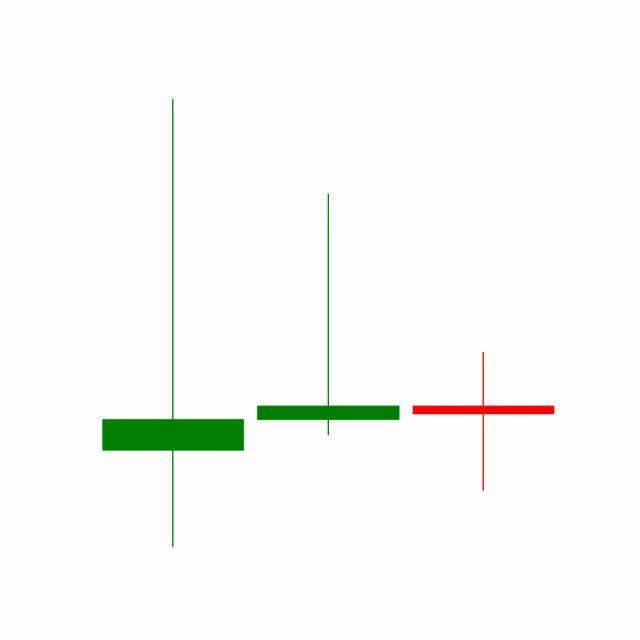Spinning Top: (406, 350, 562, 494)
